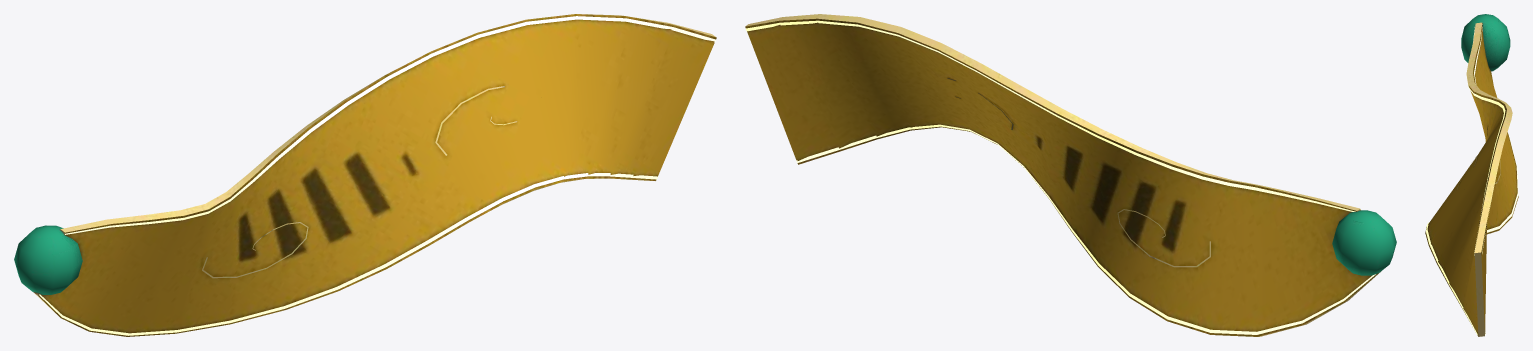
The picture shows the model from 3 angles, left to right: view 1: azimuth 30°, elevation 25°; view 2: azimuth 150°, elevation 25°; view 3: azimuth 270°, elevation 25°; orthographic projection. The views are drawn at different scales.
Visible parts, largest first — view 1: Silk_satin_gold, glow_Fine_luminous_gold_piping, Jade_knot, Polished_gold_edges_and_scrollwork; view 2: Silk_satin_gold, Polished_gold_edges_and_scrollwork, glow_Fine_luminous_gold_piping, Jade_knot; view 3: Silk_satin_gold, Polished_gold_edges_and_scrollwork, Jade_knot, glow_Fine_luminous_gold_piping.
Part boxes in pixels (x1,y1,x2,y2): Silk_satin_gold: (38, 14, 716, 336); glow_Fine_luminous_gold_piping: (39, 16, 716, 335); Jade_knot: (14, 225, 82, 294); Polished_gold_edges_and_scrollwork: (33, 14, 715, 313); Silk_satin_gold: (745, 18, 1378, 336); Polished_gold_edges_and_scrollwork: (745, 14, 1381, 336); glow_Fine_luminous_gold_piping: (746, 20, 1375, 334); Jade_knot: (1332, 210, 1396, 275); Silk_satin_gold: (1425, 23, 1518, 336); Polished_gold_edges_and_scrollwork: (1457, 22, 1512, 336); Jade_knot: (1461, 14, 1510, 71); glow_Fine_luminous_gold_piping: (1426, 24, 1518, 334).
Size of the model in its own units: 0.9606 by 0.3143 by 0.137.
Materials: 4 (3 with a texture image).
